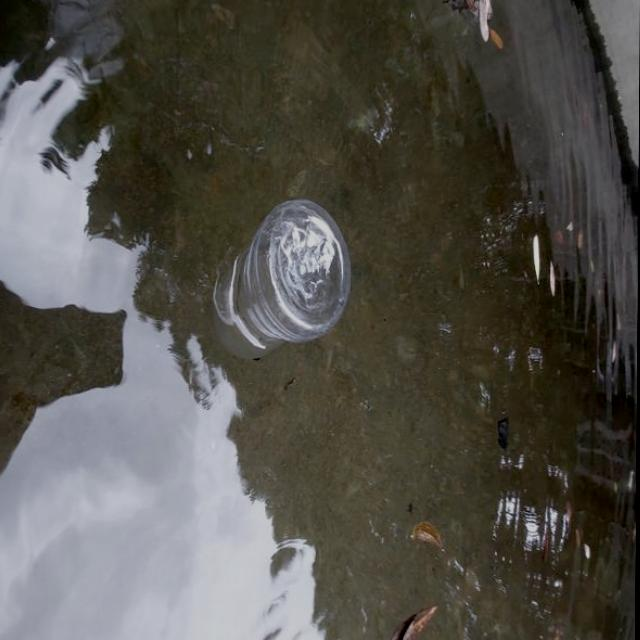leaf: (429, 0, 504, 52), (387, 593, 447, 640)
waterbottle: (191, 186, 361, 390)
